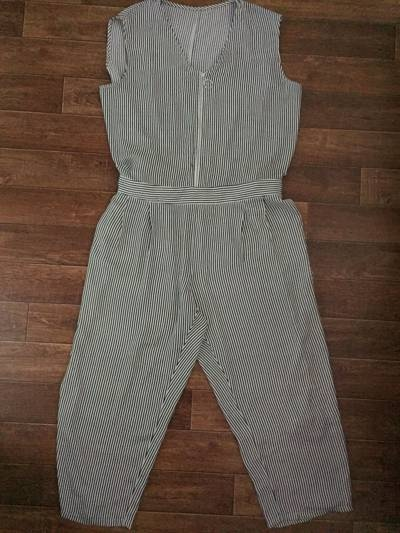Body: (36, 5, 368, 529)
